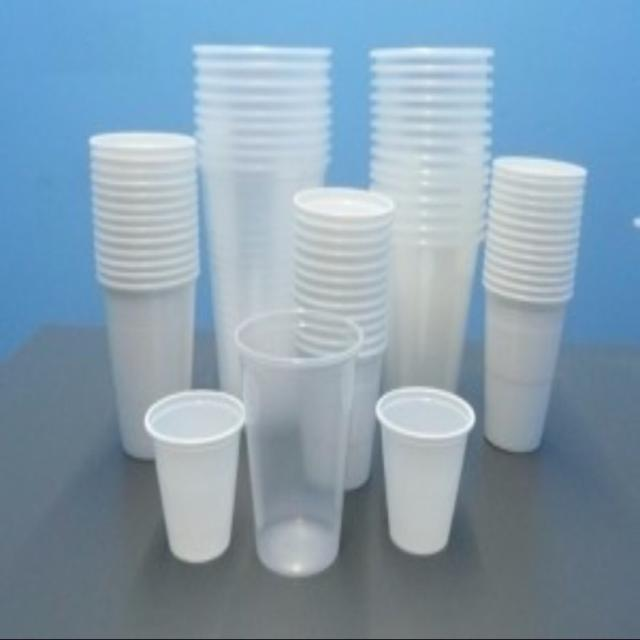Plastic: (68, 24, 586, 572)
